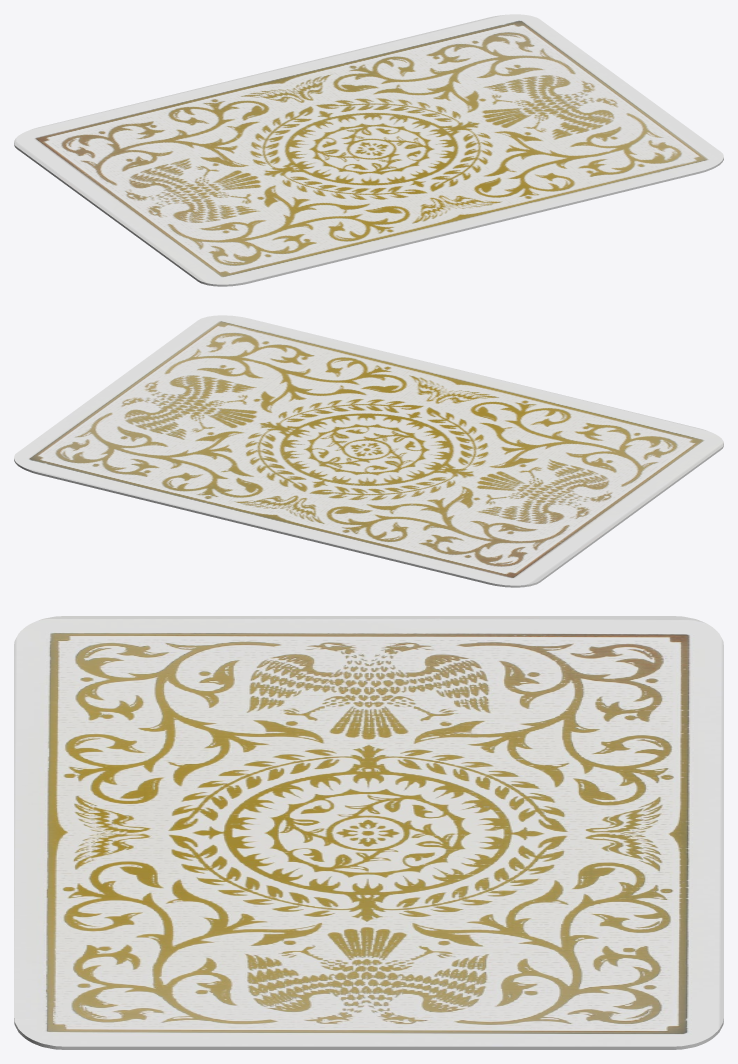
The model's file is card_clubs_5.glb.
The picture shows the model from 3 angles, top to bottom: view 1: azimuth 30°, elevation 25°; view 2: azimuth 150°, elevation 25°; view 3: azimuth 270°, elevation 25°; orthographic projection. The views are drawn at different scales.
Visible parts, largest first — view 1: Plane; view 2: Plane; view 3: Plane.
Boxes of the visible parts, x1,y1,x2,y2 form: Plane: (14, 14, 723, 286); Plane: (14, 315, 723, 587); Plane: (14, 616, 723, 1049).
Size of the model in its own units: 0.089 by 0.000322 by 0.0621.
Materials: 2 (2 with a texture image).
